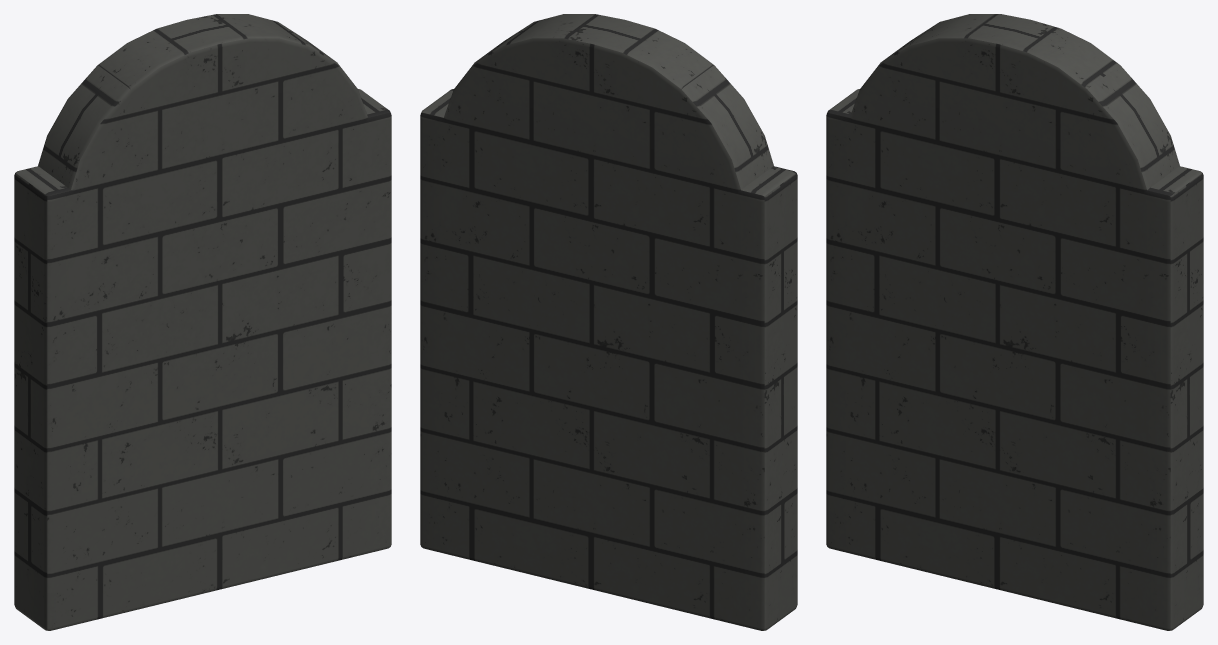
Rendered from Gravestone_B_UV.fbx.
The picture shows the model from 3 angles, left to right: view 1: azimuth 30°, elevation 25°; view 2: azimuth 150°, elevation 25°; view 3: azimuth 330°, elevation 25°; orthographic projection.
Parts seen in each view (by area): view 1: Gravestone_B; view 2: Gravestone_B; view 3: Gravestone_B.
Part boxes in pixels (box(x1,y1,x2,y2)): Gravestone_B: box(14, 14, 391, 630); Gravestone_B: box(420, 14, 797, 630); Gravestone_B: box(826, 14, 1203, 630).
Size of the model in its own units: 40.97 by 61.86 by 7.06.
